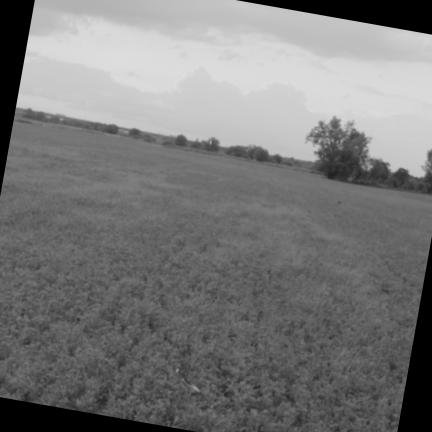Shahed: (176, 369, 213, 408)
